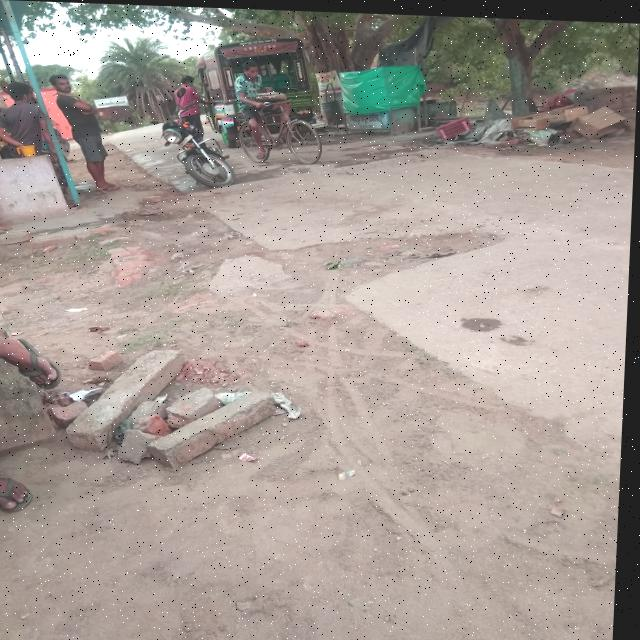plate: (179, 133, 195, 148)
